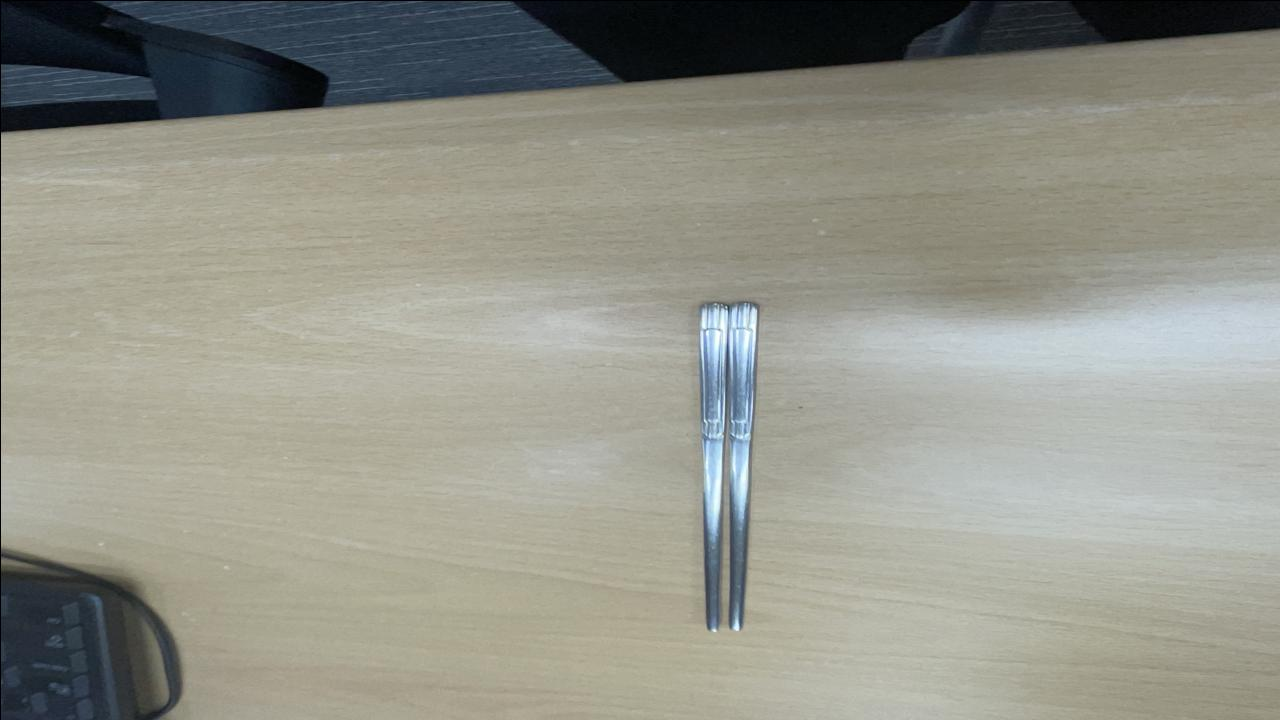chopstick: (694, 293, 762, 633)
